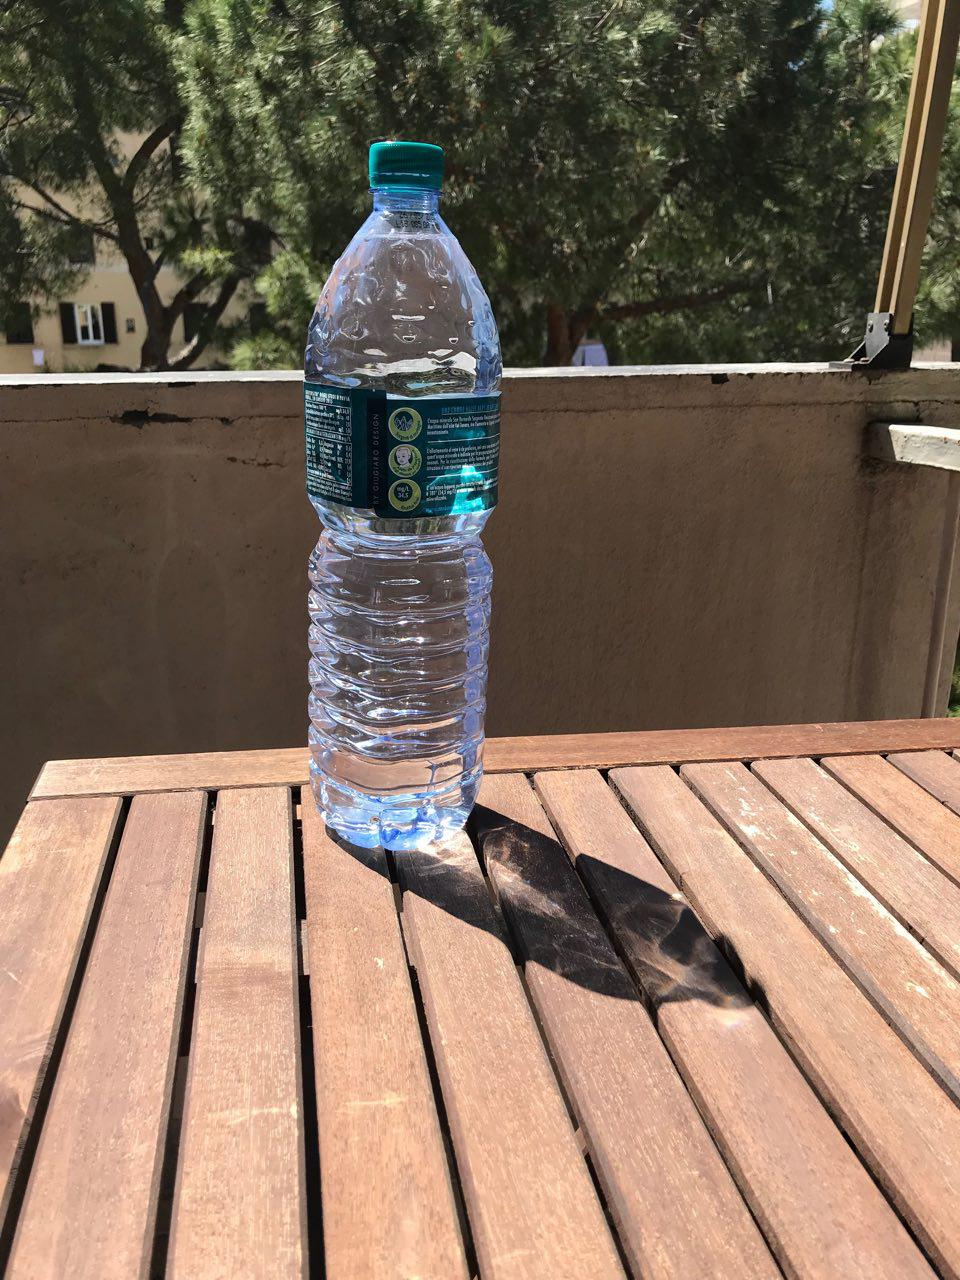san_bernardo: (302, 140, 503, 853)
